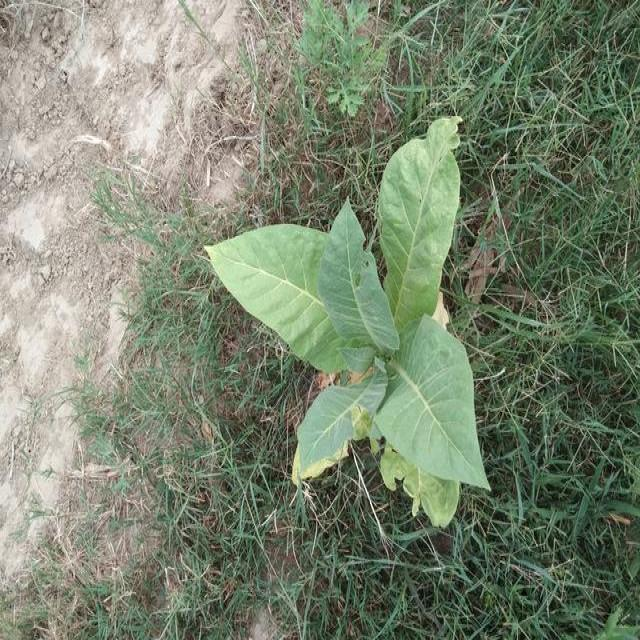crop: (208, 100, 500, 532)
